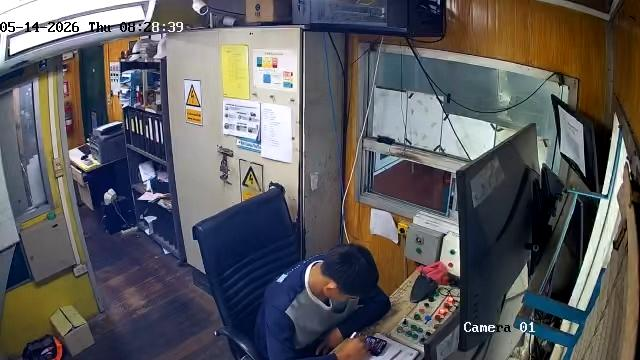Head: (320, 243, 377, 300)
People: (251, 242, 392, 360)
Phone: (348, 331, 389, 356)
